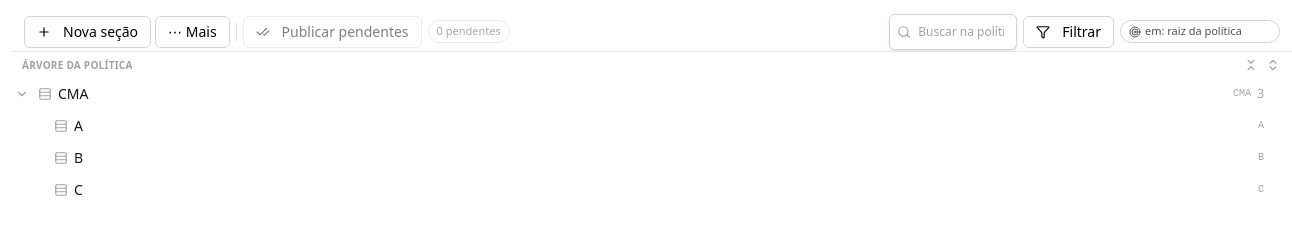
Test: PolicyTree — a árvore é sempre hoje (DEC-UX-004) › a barra não tem seletor de data, e o nó continua editável com a consulta aberta em outra data
Check: the button "Nova seção" is shown, box 24,16 -> 151,48
Click the list item with test id "tree-node-CMA": (73, 94) 12,78 -> 1291,110
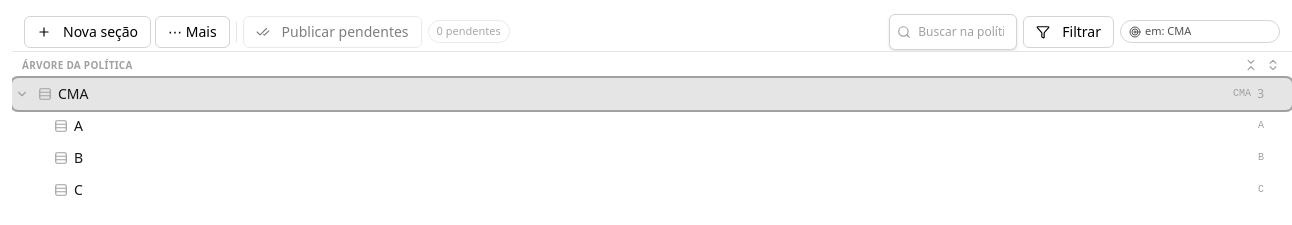
Press F2
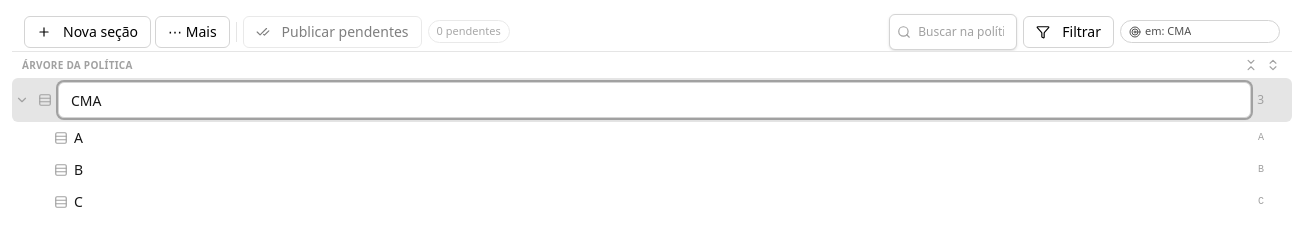
Check: the field named "Renomear CMA" is shown, box 58,82 -> 1251,118
